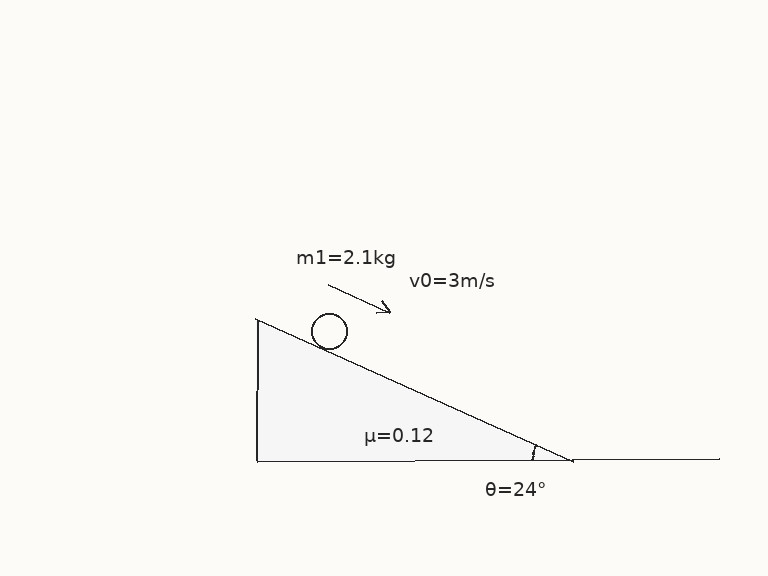ball: (309, 311, 349, 351)
ramp: (255, 317, 575, 462)
